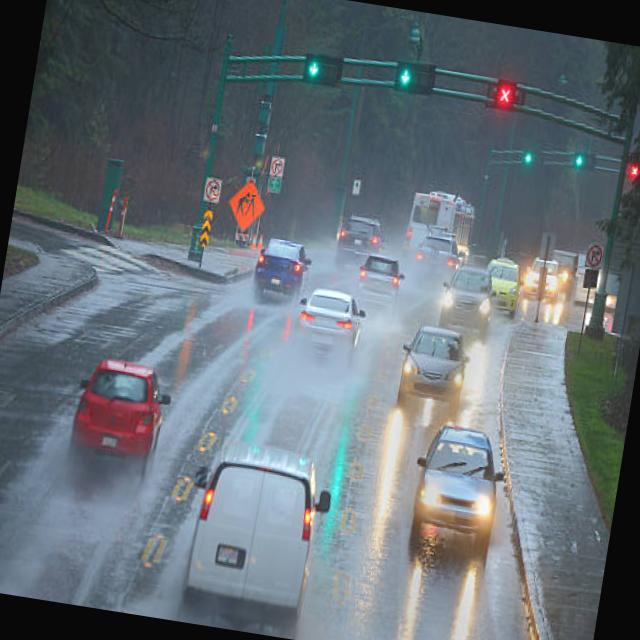Vehicle: (175, 408, 355, 630), (50, 335, 191, 496), (394, 411, 516, 579), (387, 322, 488, 408), (292, 281, 376, 374), (240, 214, 312, 308), (435, 257, 508, 333), (326, 207, 386, 251), (353, 255, 414, 298)
